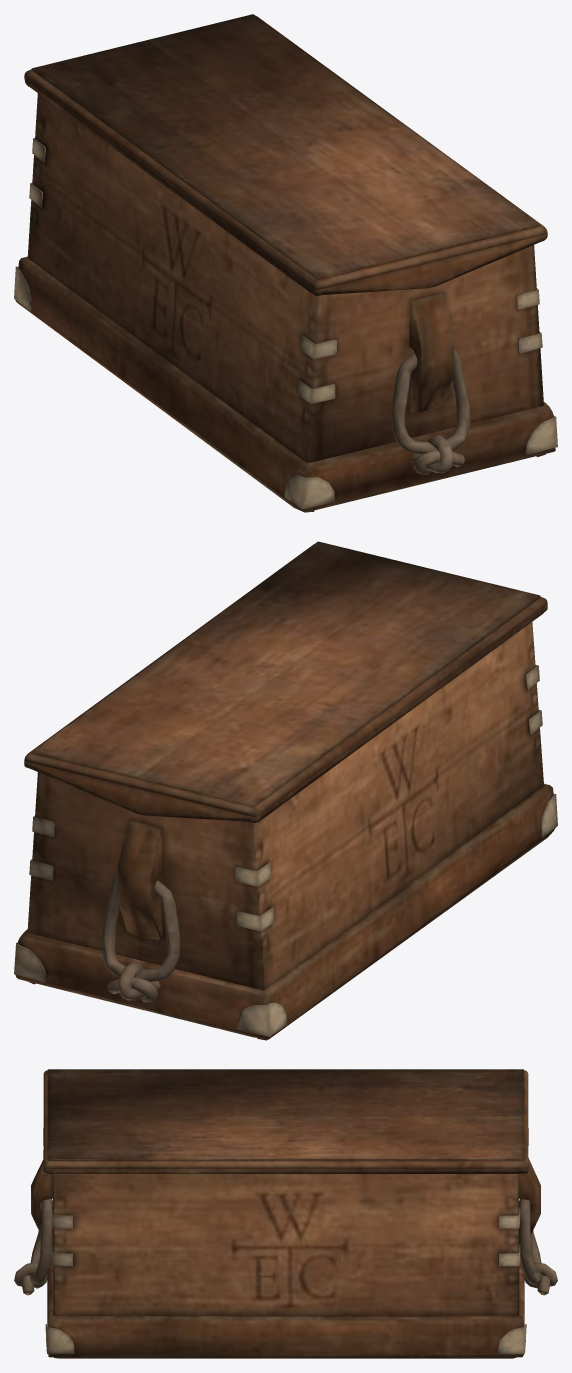
Rendered from wooden_crate_02.glb.
3 renders of one model, top to bottom at view 1: azimuth 30°, elevation 25°; view 2: azimuth 150°, elevation 25°; view 3: azimuth 270°, elevation 25°, orthographic. The views are drawn at different scales.
Parts seen in each view (by area): view 1: wooden_crate_02_crate, wooden_crate_02_lid; view 2: wooden_crate_02_crate, wooden_crate_02_lid; view 3: wooden_crate_02_crate, wooden_crate_02_lid.
Part boxes in pixels (x1,y1,x2,y2): wooden_crate_02_crate: [14, 93, 557, 512]; wooden_crate_02_lid: [24, 14, 547, 295]; wooden_crate_02_crate: [14, 622, 557, 1040]; wooden_crate_02_lid: [24, 541, 547, 822]; wooden_crate_02_crate: [14, 1158, 557, 1358]; wooden_crate_02_lid: [43, 1069, 528, 1173].
Bounding box in the file's own units: 0.5291 × 0.464 × 1.17.
Materials: 1 (1 with a texture image).
